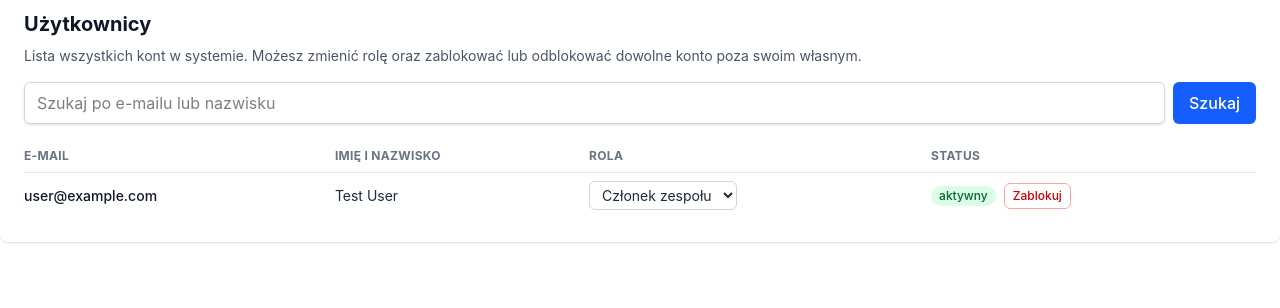
UsersPanel — zmiana statusu › blokuje konto i aktualizuje znacznik po kliknięciu
The image size is (1280, 308).
Click the button with aria-label "Zablokuj użytkownika user@example.com".
click(1037, 196)  # box [1004,182,1071,208]
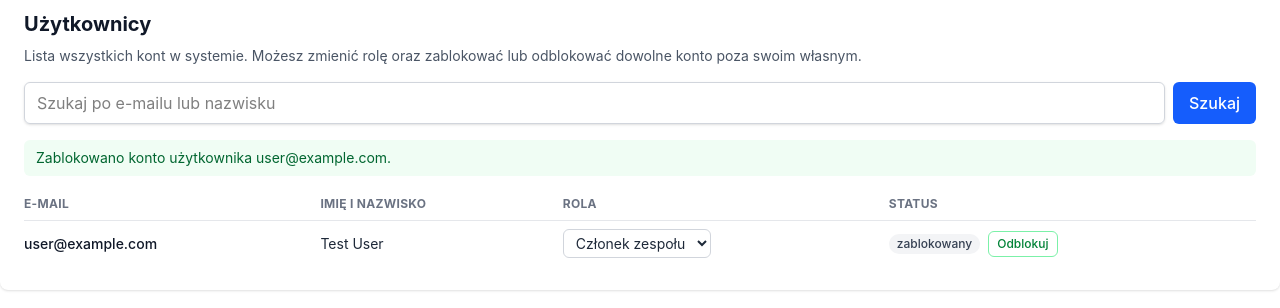
Now the text "zablokowany" is shown, box [889,234,980,254]
Now the text "Zablokowano konto użytkownika user@example.com." is shown, box [24,140,1256,176]
